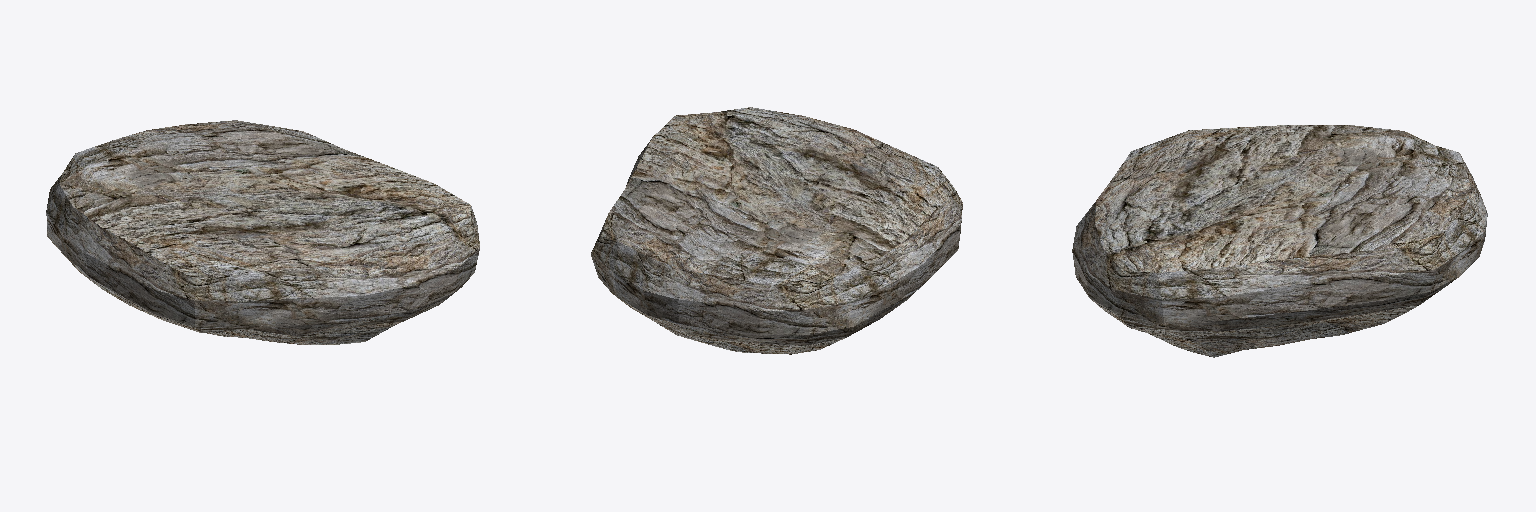
3 renders of one model, left to right at view 1: azimuth 30°, elevation 25°; view 2: azimuth 150°, elevation 25°; view 3: azimuth 270°, elevation 25°, orthographic.
Visible parts, largest first — view 1: IslandPart305; view 2: IslandPart305; view 3: IslandPart305.
Boxes of the visible parts, <box> form: IslandPart305: <box>46,120,479,344</box>; IslandPart305: <box>591,107,962,354</box>; IslandPart305: <box>1072,125,1487,357</box>.
Size of the model in its own units: 3.96 by 1.56 by 4.39.
1 materials, 1 textured.